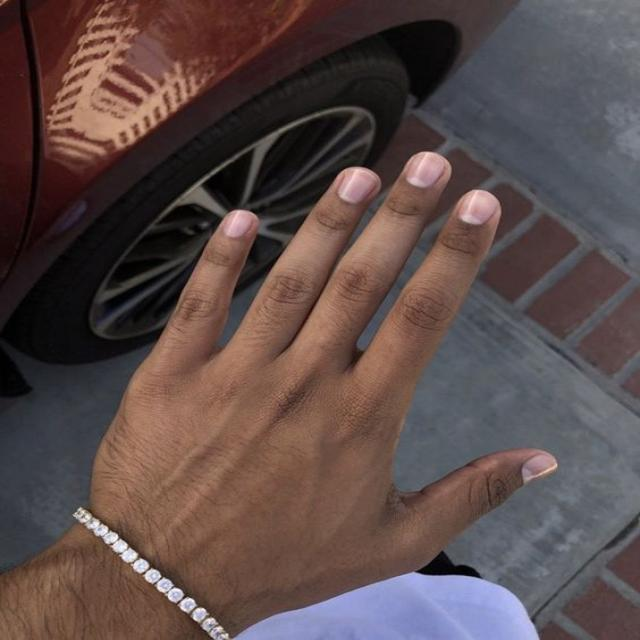Fingernail: (405, 152, 444, 187), (459, 190, 497, 225), (339, 169, 377, 203), (523, 454, 556, 483), (225, 211, 255, 238)
